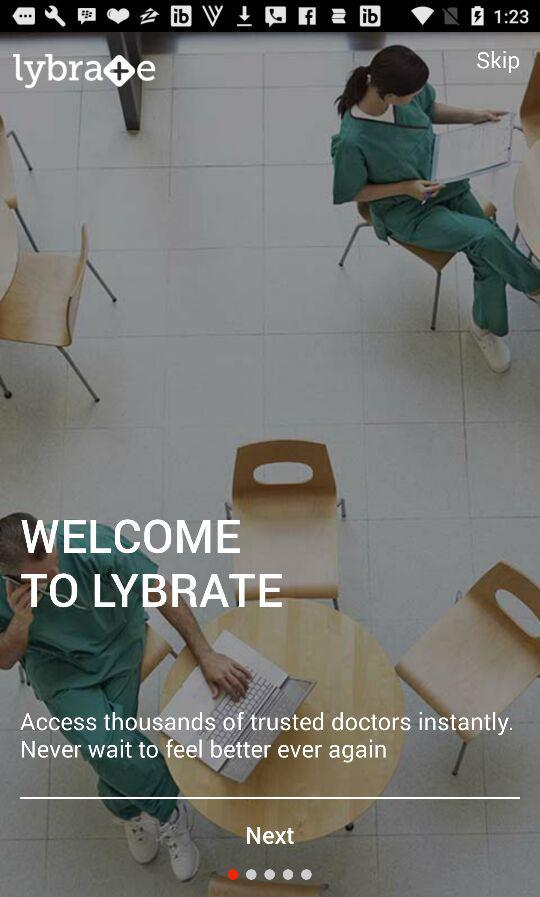BackgroundImage: (1, 33, 540, 897)
Image: (12, 53, 157, 90)
PageIndicator: (227, 867, 314, 882)
Text: (20, 711, 513, 764), (21, 519, 284, 610), (476, 50, 521, 75), (246, 826, 297, 846)
UpperTaskBar: (1, 1, 540, 33)
